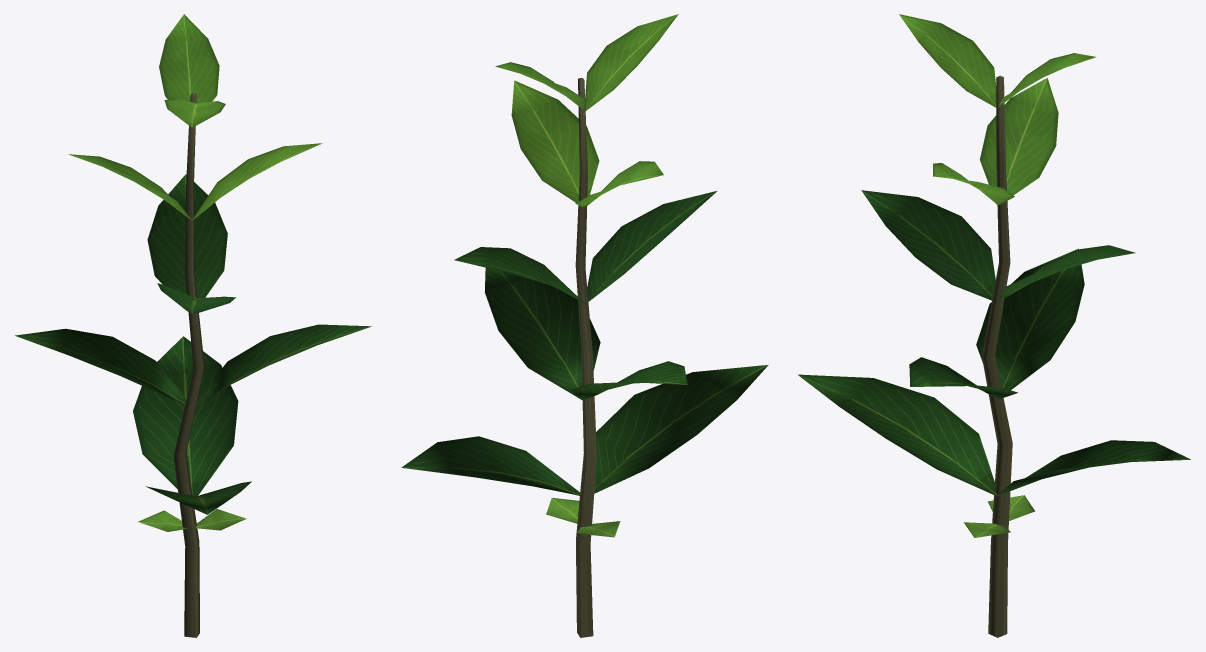
File: coffea-liberica-seedling-lod0.glb
3 renders of one model, left to right at view 1: azimuth 30°, elevation 25°; view 2: azimuth 150°, elevation 25°; view 3: azimuth 270°, elevation 25°, orthographic. The views are drawn at different scales.
Parts seen in each view (by area): view 1: coffee_leaves, coffee_bark; view 2: coffee_leaves, coffee_bark; view 3: coffee_leaves, coffee_bark.
Boxes of the visible parts, x1,y1,x2,y2 form: coffee_leaves: (15, 14, 371, 531); coffee_bark: (173, 93, 204, 637); coffee_leaves: (401, 14, 768, 537); coffee_bark: (575, 78, 596, 637); coffee_leaves: (798, 14, 1190, 537); coffee_bark: (982, 75, 1012, 637).
Size of the model in its own units: 0.1742 by 0.347 by 0.2075.
2 materials, 2 textured.
